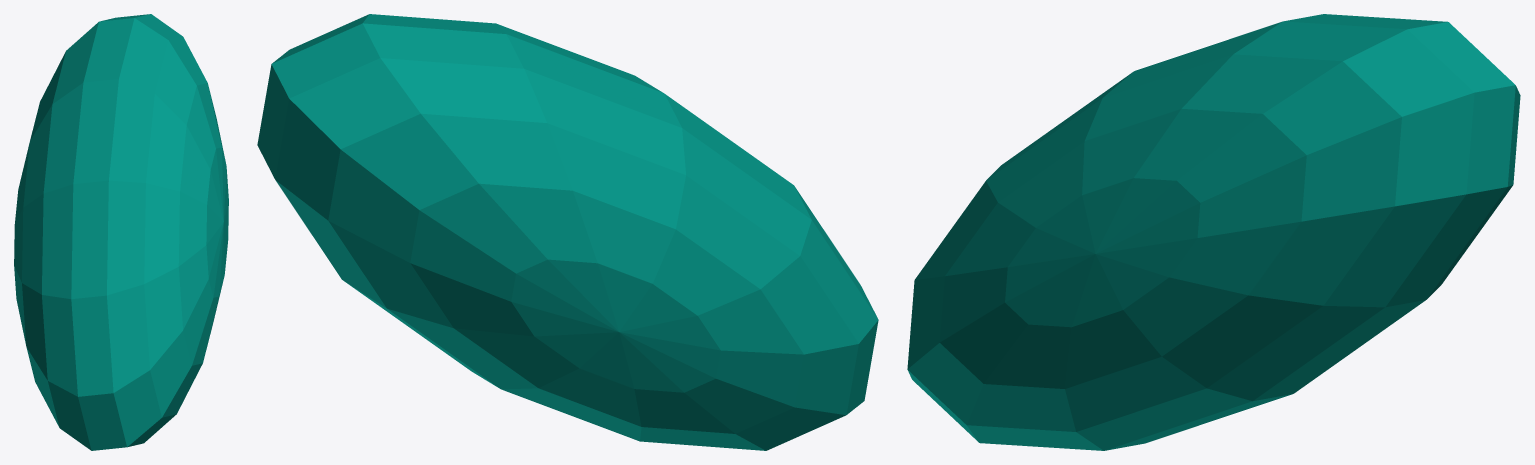
The model's file is n5_group1907834523_lev5.001.glb.
3 renders of one model, left to right at view 1: azimuth 30°, elevation 25°; view 2: azimuth 150°, elevation 25°; view 3: azimuth 270°, elevation 25°, orthographic. The views are drawn at different scales.
Parts seen in each view (by area): view 1: n5_group1907834523_lev5.001; view 2: n5_group1907834523_lev5.001; view 3: n5_group1907834523_lev5.001.
Boxes of the visible parts, x1,y1,x2,y2 form: n5_group1907834523_lev5.001: (14, 14, 228, 450); n5_group1907834523_lev5.001: (257, 14, 878, 450); n5_group1907834523_lev5.001: (907, 14, 1520, 450).
Size of the model in its own units: 1.63 by 1.89 by 2.01.
